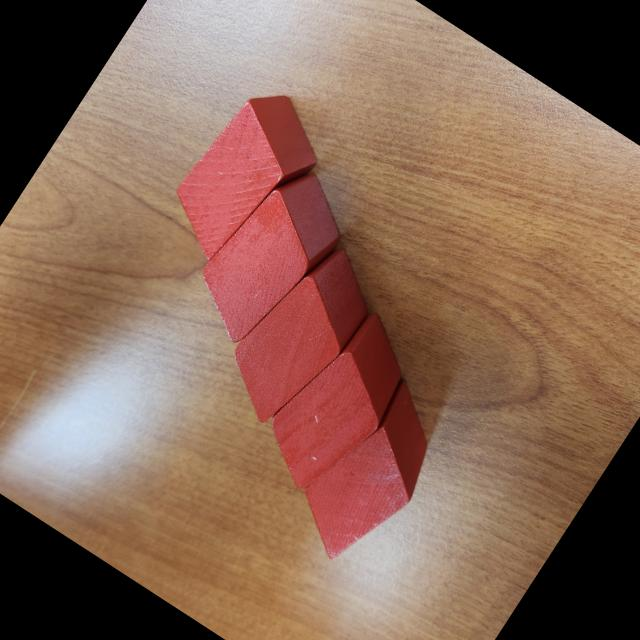red: (176, 150, 364, 362), (278, 366, 464, 578), (246, 295, 430, 508), (207, 229, 389, 440), (154, 73, 338, 279)
